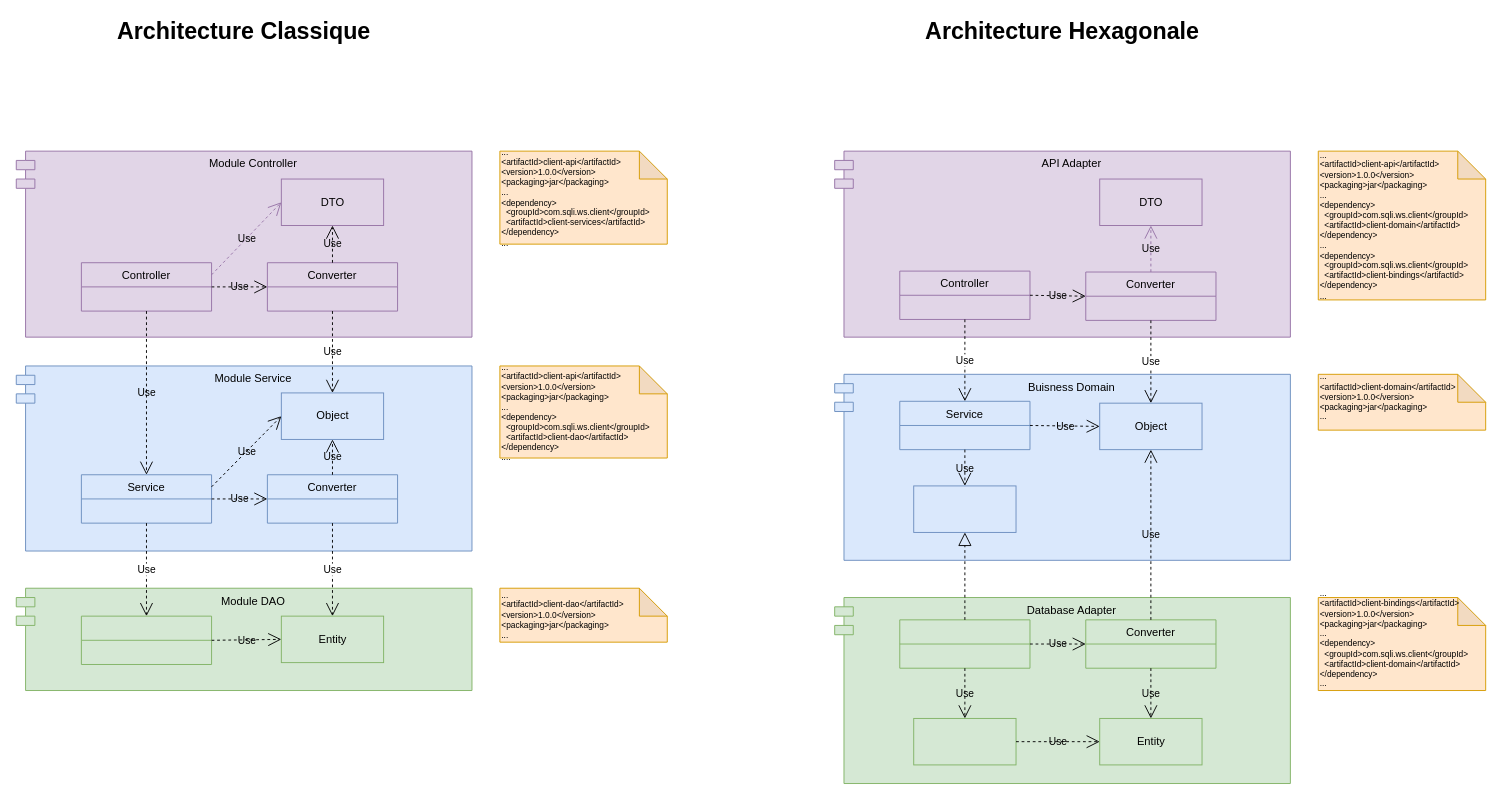
This 1502x800 diagram has some shape labels left out. Each missing label, with the centre of its shape:
"Adpater" goes at pixel 964 643.
"Repository" goes at pixel 146 639.
"«interface» Port" goes at pixel 964 508.
"«interface» Repository" goes at pixel 964 741.
